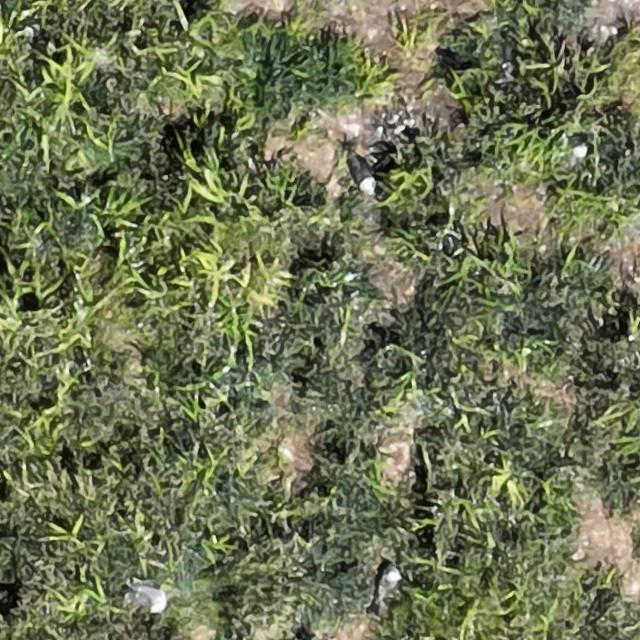umineko: (375, 565, 399, 601), (131, 585, 165, 609), (354, 159, 376, 192)
